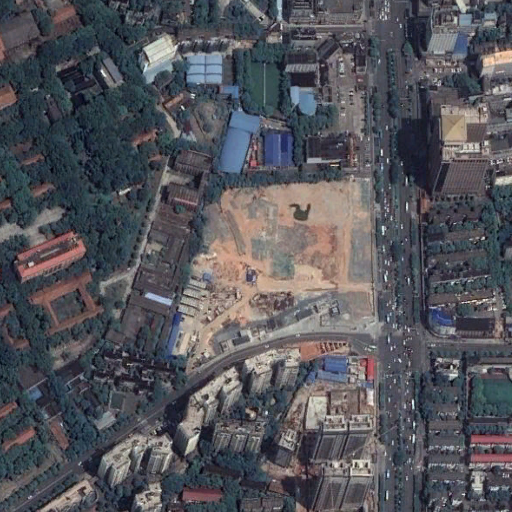cw: (184, 181, 378, 364)
